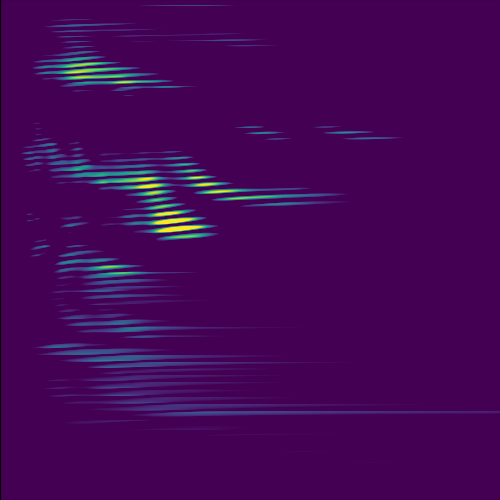semblance: (55, 46, 160, 98), (145, 194, 211, 241), (126, 165, 178, 200)
